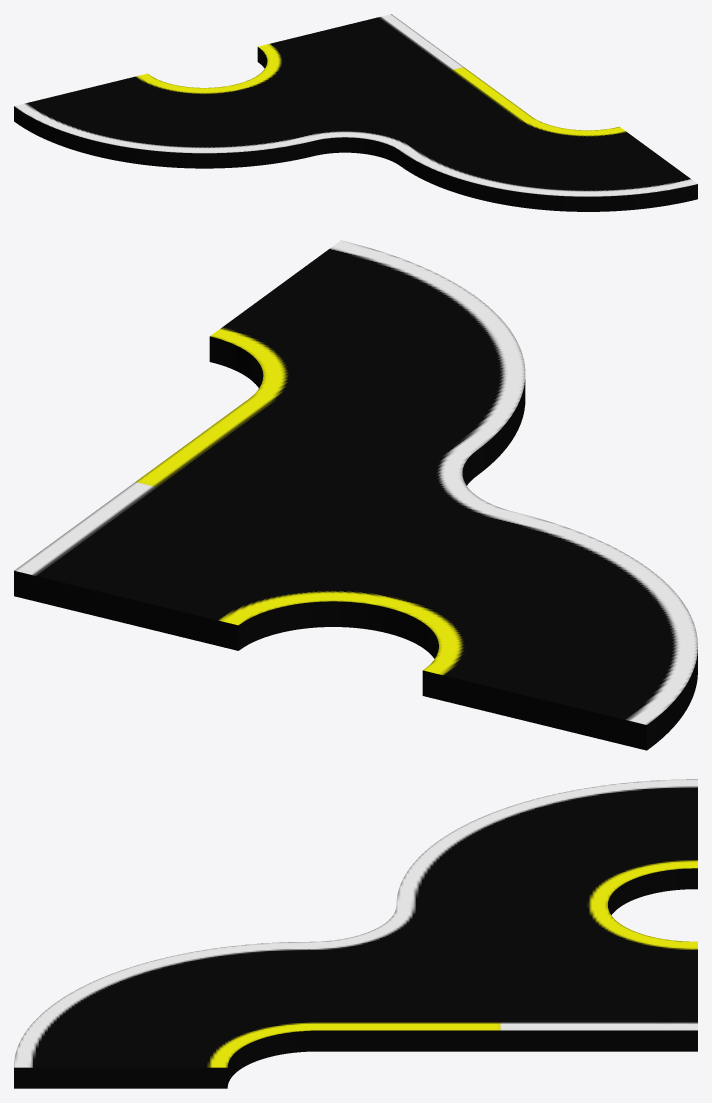
Rendered from Panel_R02_C01__Road_00.dae.
3 renders of one model, top to bottom at view 1: azimuth 30°, elevation 25°; view 2: azimuth 150°, elevation 25°; view 3: azimuth 270°, elevation 25°, orthographic. The views are drawn at different scales.
Visible parts, largest first — view 1: Object; view 2: Object; view 3: Object.
Part boxes in pixels (x1=…): Object: x1=14, y1=14, x2=697, y2=211; Object: x1=14, y1=240, x2=697, y2=750; Object: x1=14, y1=779, x2=697, y2=1088.
Size of the model in its own units: 0.8918 by 0.894 by 0.03.
Materials: 2 (1 with a texture image).
